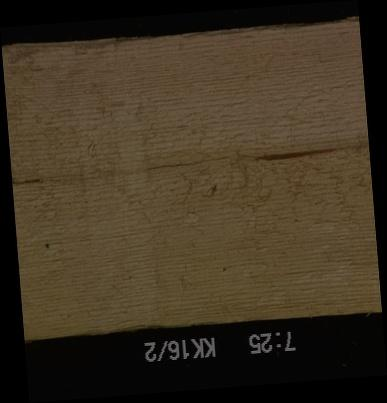split: (145, 149, 236, 180)
